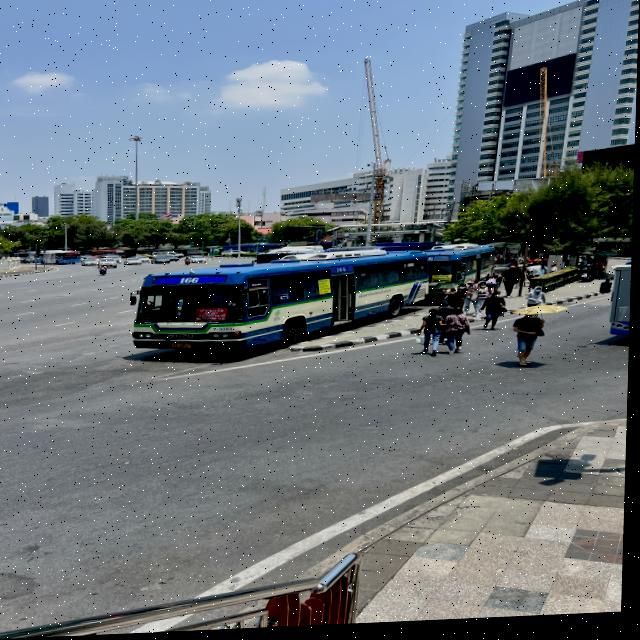BMTA-bus: (130, 253, 432, 360), (415, 247, 504, 304)
Bus-Line-Number: (176, 277, 203, 287)
Destination-Sign-Extra-Bus: (196, 308, 230, 322)
Destination-Sign-Normal-Expressway: (432, 278, 455, 286)
